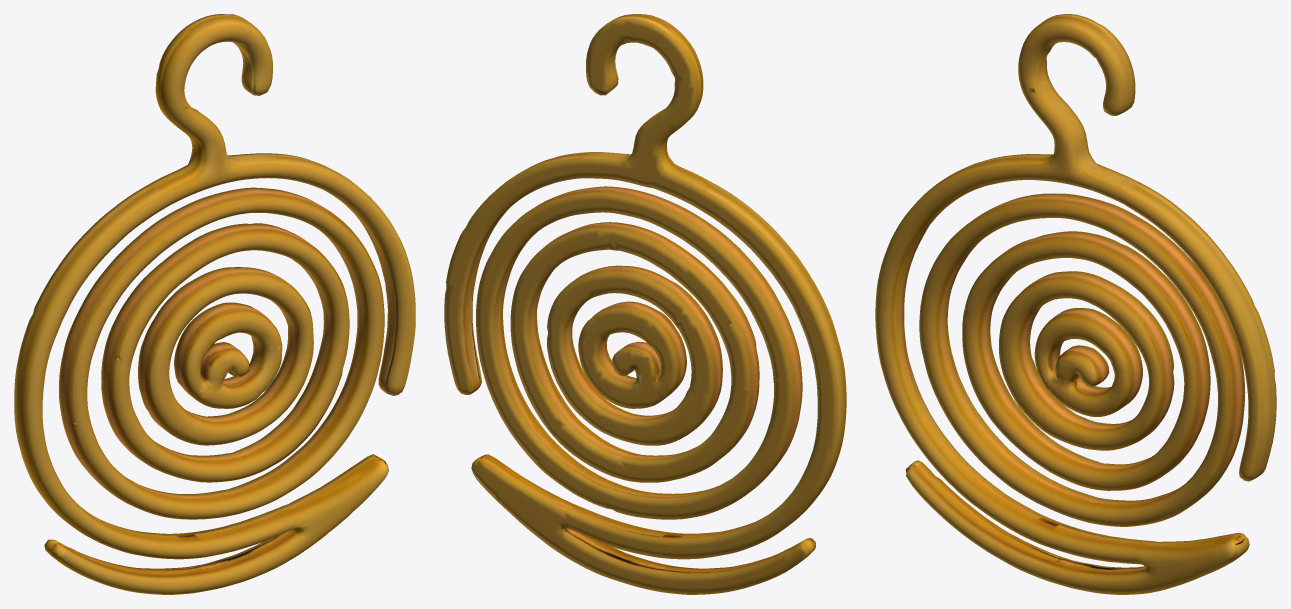
File: spiral.obj
3 views of the same model, side by side, from view 1: azimuth 30°, elevation 25°; view 2: azimuth 150°, elevation 25°; view 3: azimuth 330°, elevation 25° (orthographic).
Visible parts, largest first — view 1: Golden_Spiral_Hanger_0419221111_texture; view 2: Golden_Spiral_Hanger_0419221111_texture; view 3: Golden_Spiral_Hanger_0419221111_texture.
Part boxes in pixels (left/top/right/bottom): Golden_Spiral_Hanger_0419221111_texture: left=14, top=14, right=415, bottom=594; Golden_Spiral_Hanger_0419221111_texture: left=444, top=14, right=846, bottom=594; Golden_Spiral_Hanger_0419221111_texture: left=875, top=14, right=1276, bottom=594.
Size of the model in its own units: 1.45 by 2 by 0.0884.
